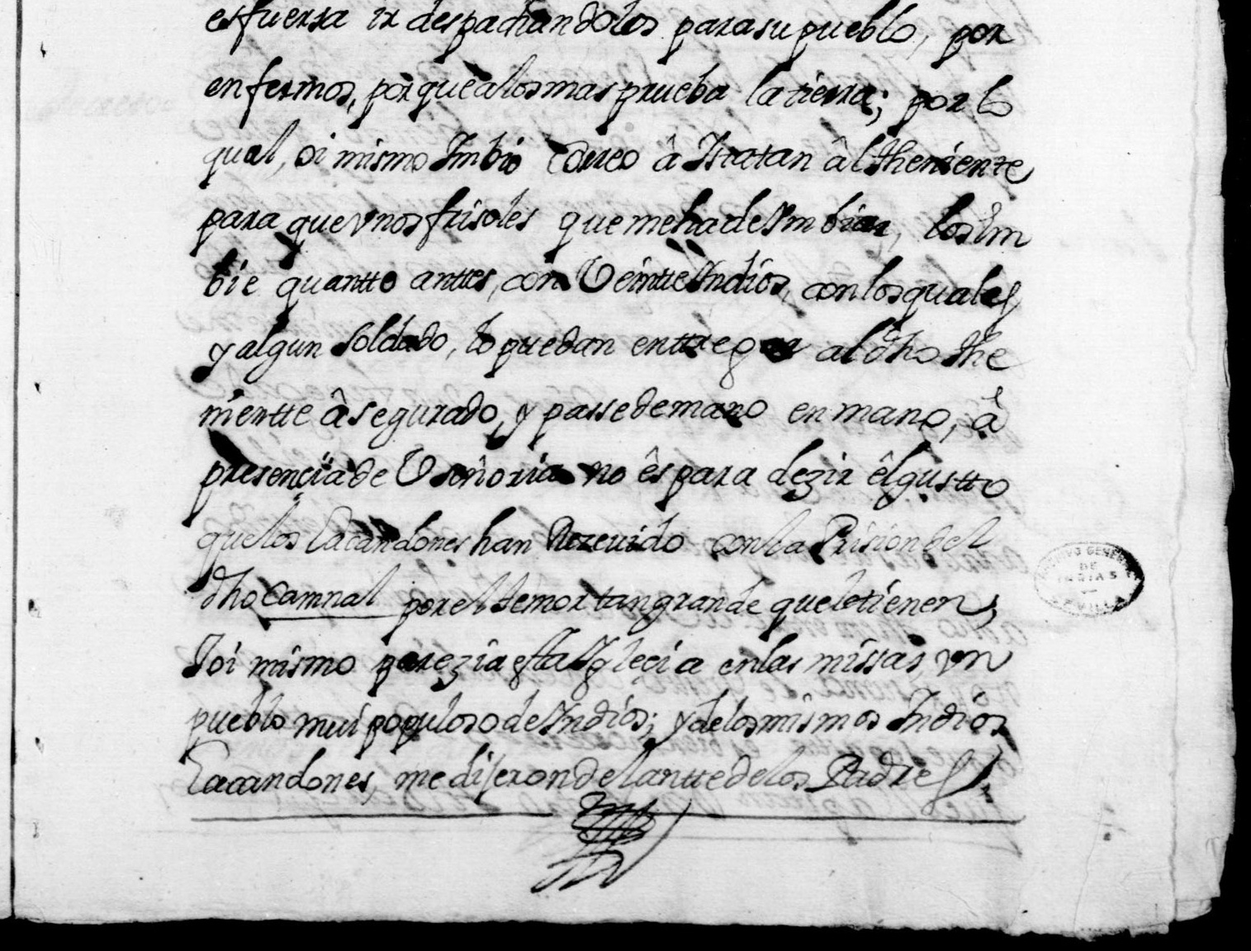lacandon: (185, 739, 375, 795)
